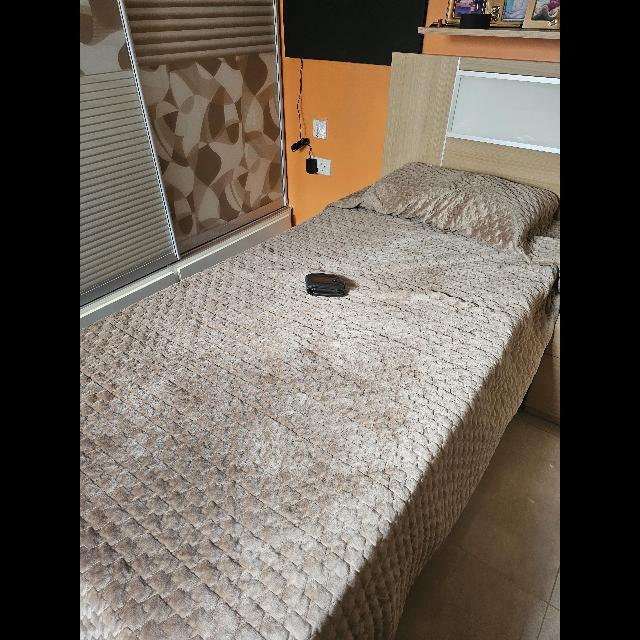Wallet: (305, 272, 347, 296)
